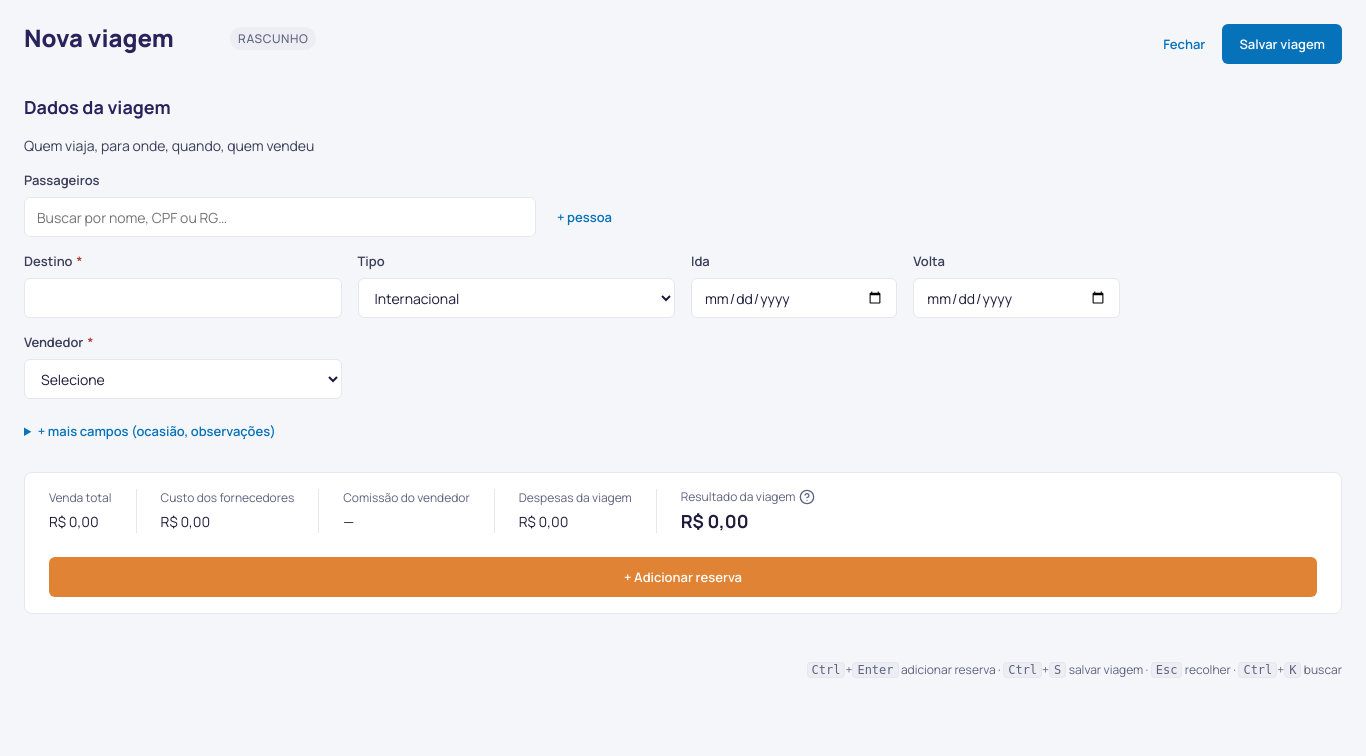
Test: ALT-01: erro do fornecedor some ao escolher o fornecedor na reserva que estava com erro
The image size is (1366, 756).
Expected: the heading "Nova viagem Rascunho" is shown, [24,24,316,53]
Press Enter
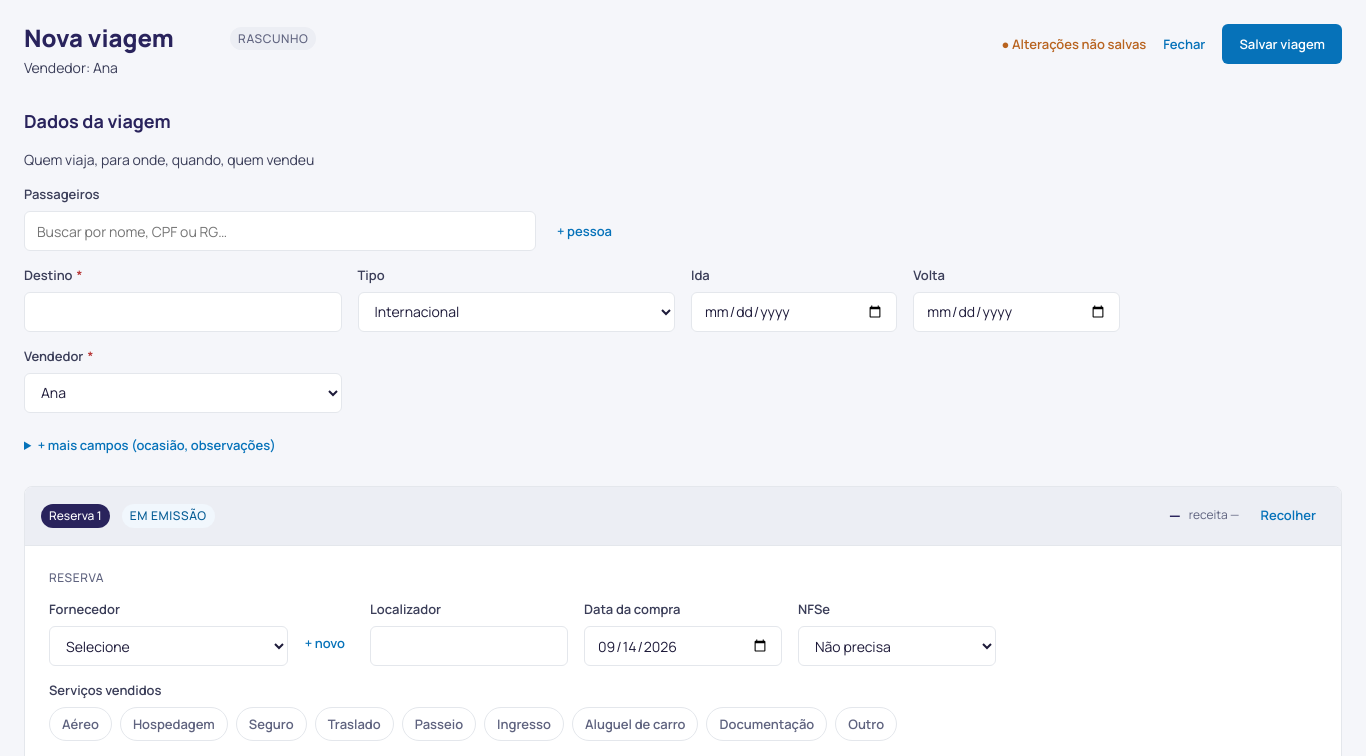
Click the button "Salvar viagem" at (1282, 44), box [1222,24,1342,64]
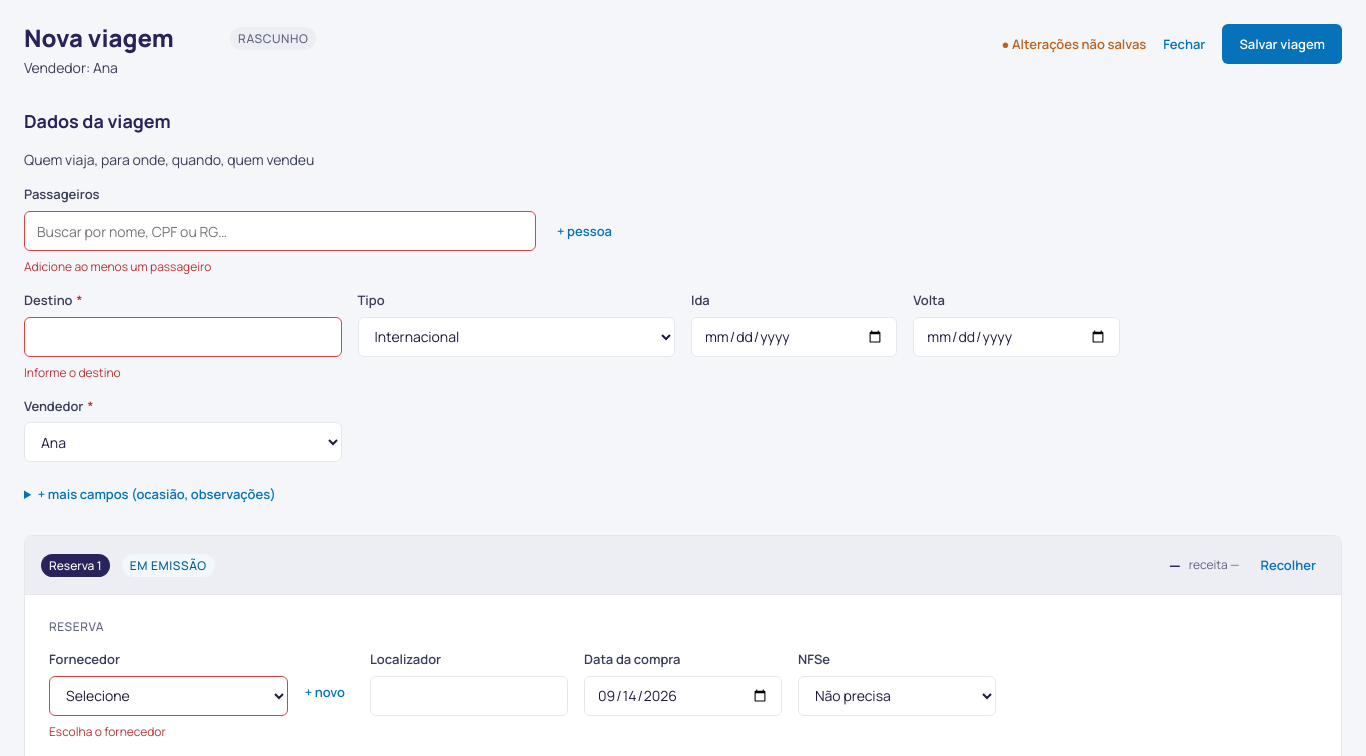
Now the text "Escolha o fornecedor" is shown, box [49,723,166,740]
Select "CVC" in the dropdown labelled "Fornecedor" at (168, 696), box [49,676,288,716]
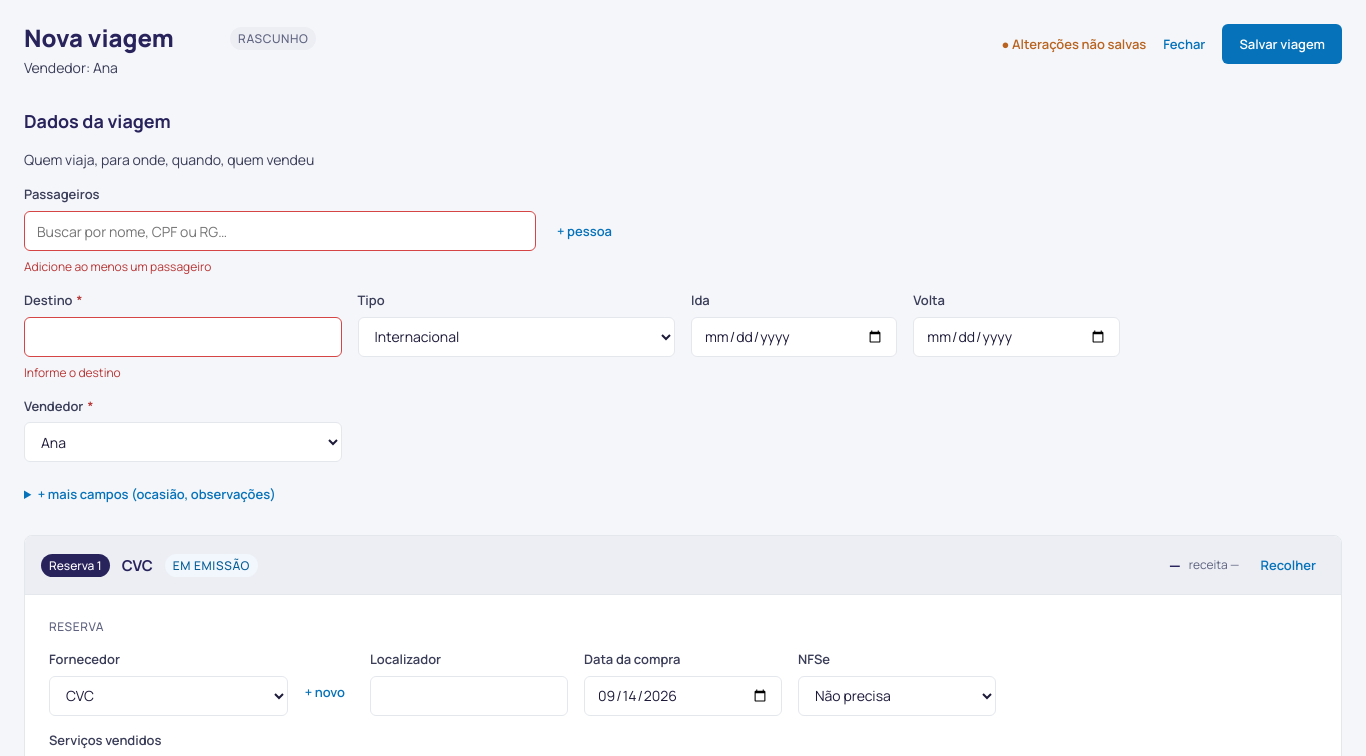
Now the text "Escolha o fornecedor" is gone
